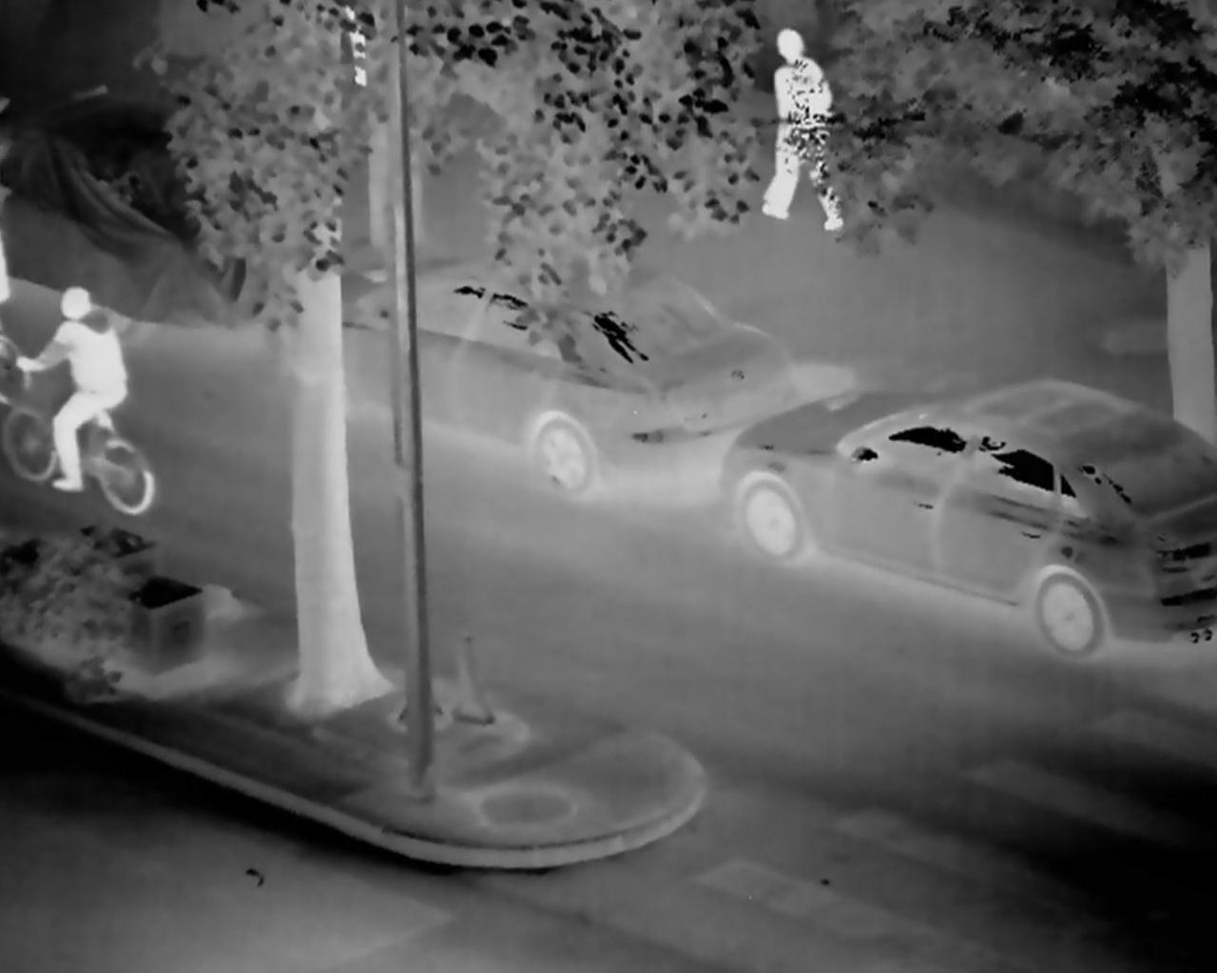person: (23, 285, 133, 506), (756, 26, 858, 236)
